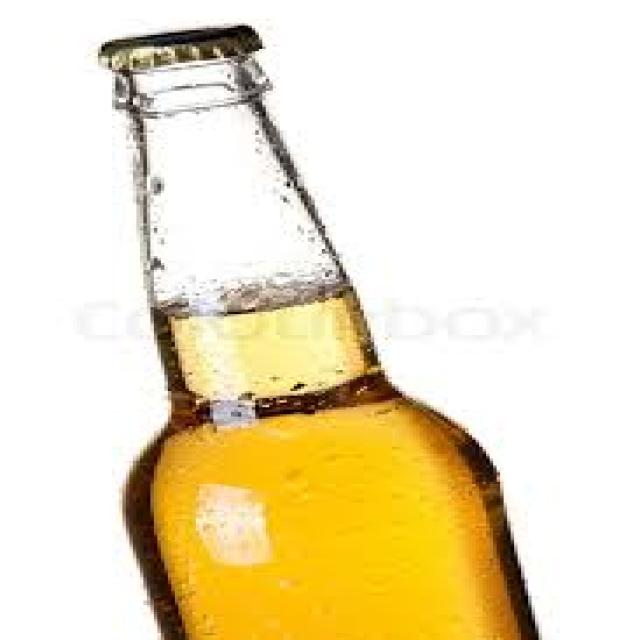Anorganik: (112, 44, 538, 638), (94, 23, 256, 72)
